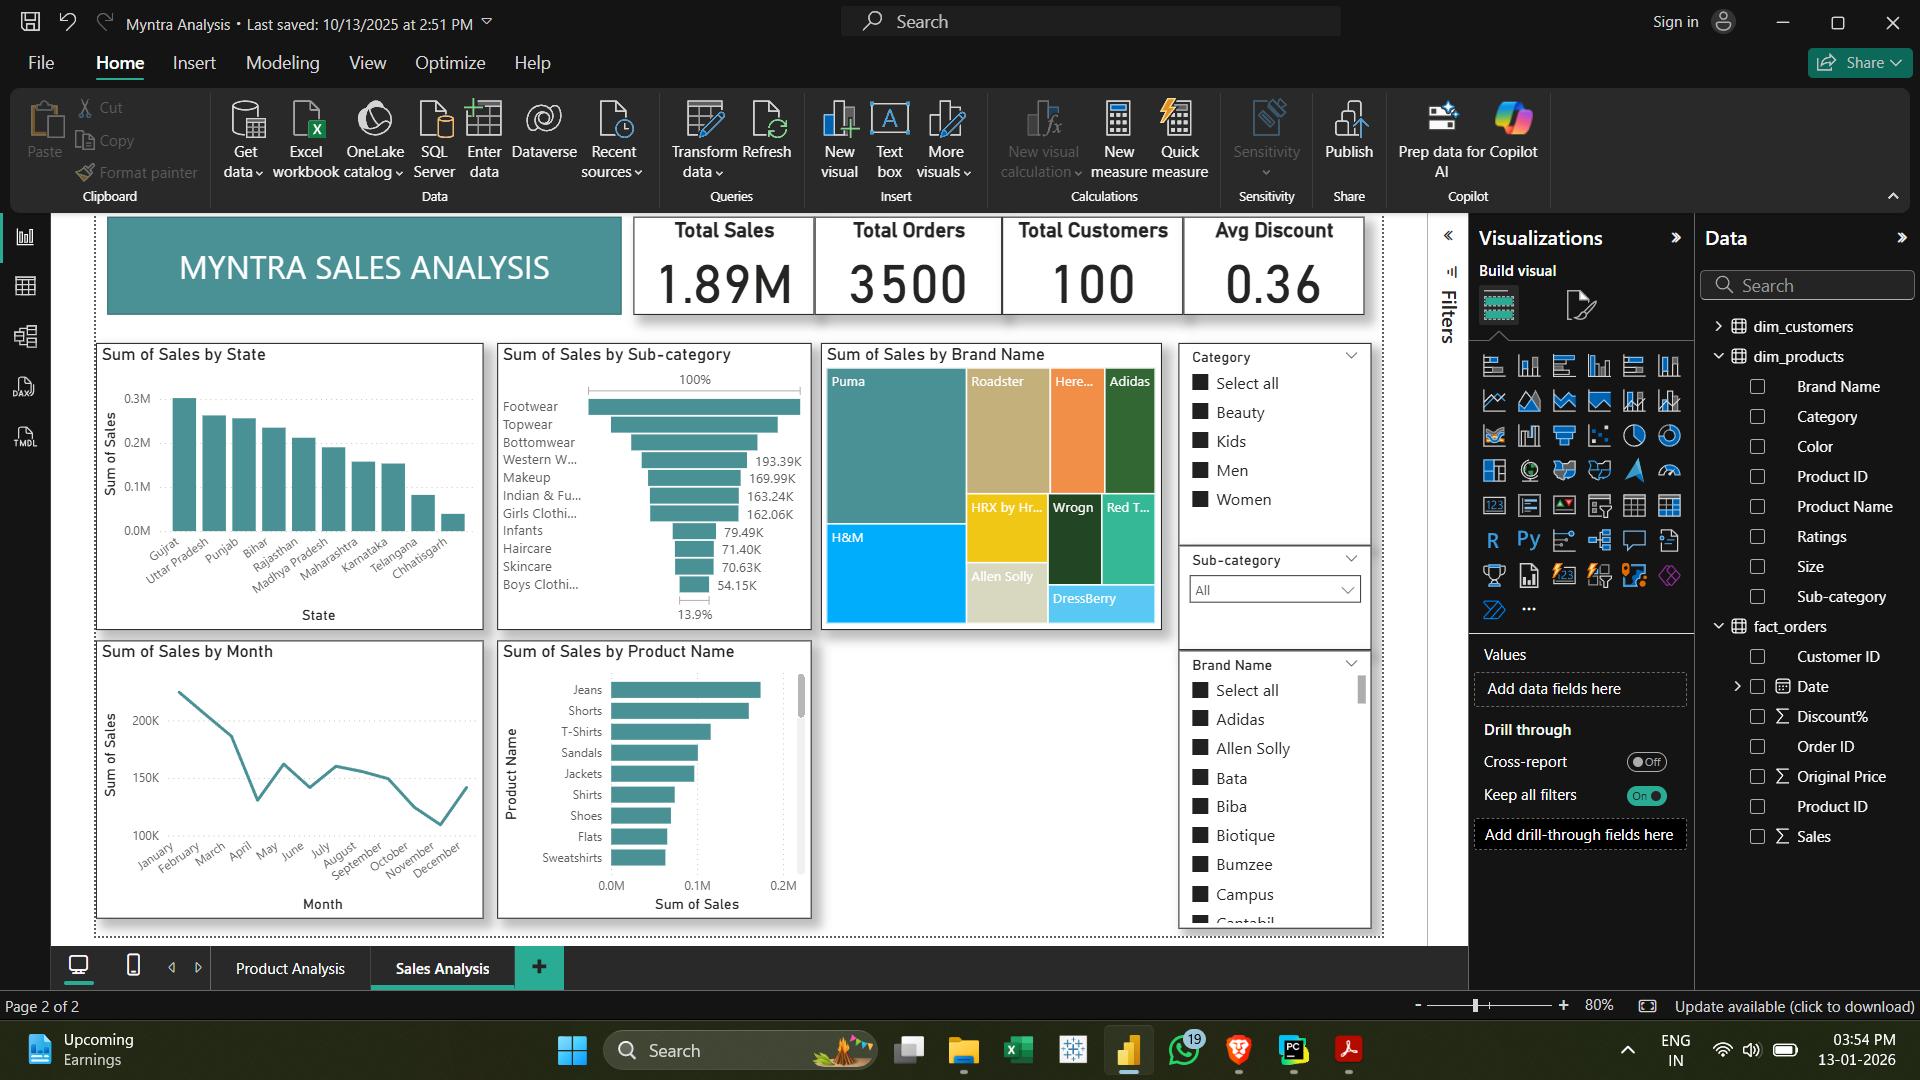

The dashboard page shown, as its layout file describes it:
{"tool":"powerbi","page":{"name":"Sales Analysis","canvas":[1280,720],"ordinal":1},"visuals":[{"type":"card","title":"Total Sales","fields":{"Values":["Sum(fact_orders.Sales)"]},"box":[535.2,4.1,179.8,97.4],"z":0},{"type":"card","title":"Total Orders","fields":{"Values":["CountNonNull(fact_orders.Order ID)"]},"box":[714.9,4.1,186.6,97.4],"z":1000},{"type":"card","title":"Total Customers","fields":{"Values":["Count(fact_orders.Customer ID)"]},"box":[901.5,4.1,179.8,97.4],"z":2000},{"type":"card","title":"Avg Discount","fields":{"Values":["Avg(fact_orders.Discount%)"]},"box":[1082.7,4.1,179.8,97.4],"z":3000},{"type":"columnChart","fields":{"Category":["dim_customers.State"],"Y":["Sum(fact_orders.Sales)"]},"box":[0,129,385.6,285.4],"z":4000},{"type":"lineChart","fields":{"Y":["Sum(fact_orders.Sales)"],"Category":["fact_orders.Date.Variation.Date Hierarchy.Month"]},"box":[0,425.4,385.6,277.2],"z":5000},{"type":"funnel","fields":{"Category":["dim_products.Sub-category"],"Y":["Sum(fact_orders.Sales)"]},"box":[399.3,129,312.9,285.4],"z":6000},{"type":"treemap","fields":{"Group":["dim_products.Brand Name"],"Values":["Sum(fact_orders.Sales)"]},"box":[721.8,129,338.9,285.4],"z":7000},{"type":"barChart","fields":{"Category":["dim_products.Product Name"],"Y":["Sum(fact_orders.Sales)"]},"box":[399.3,425.4,312.9,277.2],"z":8000},{"type":"slicer","fields":{"Values":["dim_products.Category"]},"box":[1077.2,129,192.1,201.7],"z":9000},{"type":"slicer","fields":{"Values":["dim_products.Sub-category"]},"box":[1077.2,330.7,192.1,104.3],"z":10000},{"type":"slicer","fields":{"Values":["dim_products.Brand Name"]},"box":[1077.2,435,192.1,277.2],"z":11000},{"type":"shape","box":[11,4.1,511.8,97.4],"z":12000},{"type":"pieChart","fields":{"Category":["dim_customers.Age Group"],"Y":["Sum(fact_orders.Sales)"]},"box":[722,425,339,277],"z":12001}]}

Visuals, with their boxes on the page's 1280x720 design canvas (x1, y1, x2, y2). These are canvas units, not pixel positions in the 1920x1080 screenshot, which may show the page scaled, cropped or inside an application window:
"Total Sales" card: crop(535, 4, 715, 102)
"Total Orders" card: crop(715, 4, 902, 102)
"Total Customers" card: crop(902, 4, 1081, 102)
"Avg Discount" card: crop(1083, 4, 1262, 102)
columnChart - dim_customers.State x Sum(fact_orders.Sales): crop(0, 129, 386, 414)
lineChart - Sum(fact_orders.Sales) x fact_orders.Date.Variation.Date Hierarchy.Month: crop(0, 425, 386, 703)
funnel - dim_products.Sub-category x Sum(fact_orders.Sales): crop(399, 129, 712, 414)
treemap - dim_products.Brand Name x Sum(fact_orders.Sales): crop(722, 129, 1061, 414)
barChart - dim_products.Product Name x Sum(fact_orders.Sales): crop(399, 425, 712, 703)
slicer - dim_products.Category: crop(1077, 129, 1269, 331)
slicer - dim_products.Sub-category: crop(1077, 331, 1269, 435)
slicer - dim_products.Brand Name: crop(1077, 435, 1269, 712)
shape: crop(11, 4, 523, 102)
pieChart - dim_customers.Age Group x Sum(fact_orders.Sales): crop(722, 425, 1061, 702)
